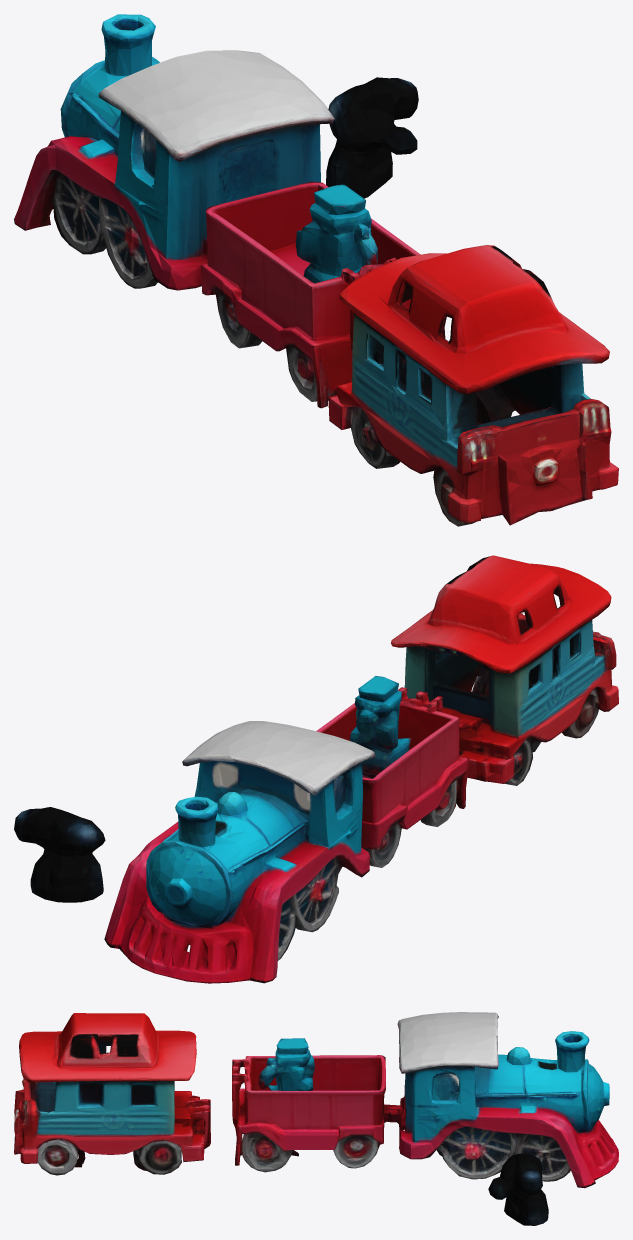
The model's file is train.glb.
3 views of the same model, one above another, from view 1: azimuth 30°, elevation 25°; view 2: azimuth 150°, elevation 25°; view 3: azimuth 270°, elevation 25° (orthographic). The views are drawn at different scales.
Visible parts, largest first — view 1: world; view 2: world; view 3: world.
Boxes of the visible parts, <box> form: world: <box>14,14,618,526</box>; world: <box>14,555,618,983</box>; world: <box>14,1012,618,1225</box>.
Size of the model in its own units: 0.4391 by 0.2491 by 0.9999.
Materials: 1 (1 with a texture image).
